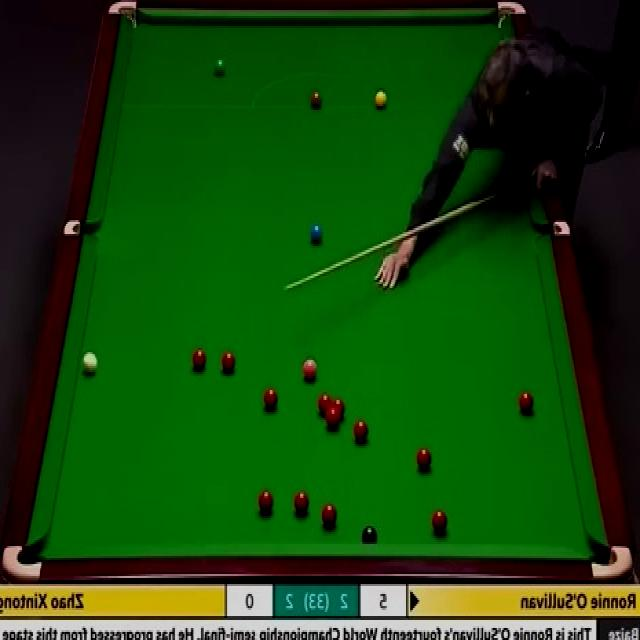black-ball: (362, 526, 378, 542)
blue-ball: (311, 223, 324, 244)
brown-ball: (311, 90, 322, 109)
green-ball: (214, 56, 225, 75)
pink-ball: (302, 358, 320, 380)
red-ball: (415, 446, 433, 472), (352, 418, 370, 444), (293, 491, 310, 517), (431, 508, 448, 533), (325, 406, 340, 434), (322, 502, 338, 528), (317, 392, 334, 416), (192, 347, 208, 372), (518, 392, 535, 414), (264, 386, 278, 410), (258, 491, 274, 512), (220, 352, 236, 372), (331, 398, 344, 421)
white-ball: (82, 349, 98, 380)
yellow-ball: (374, 90, 390, 110)
